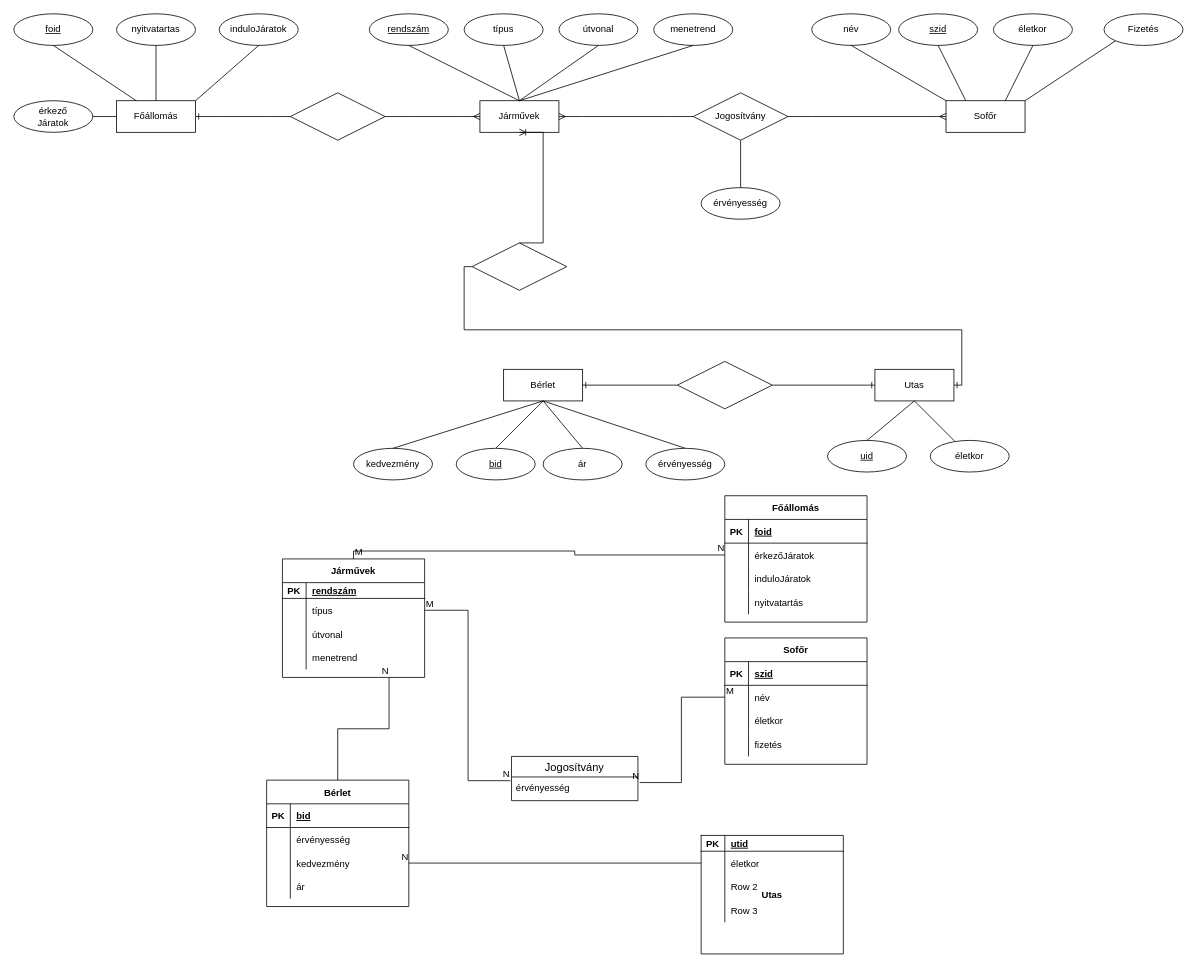
Image size: 1197x968. Some labels were removed from this diagram. The shapes that lost their labels are listed below. From the top down, each one's box as (x1, y1, x2, y2) in pixels, then its label:
(290, 92, 385, 140): Relationship
(471, 242, 567, 290): JU
(677, 361, 772, 409): BU
